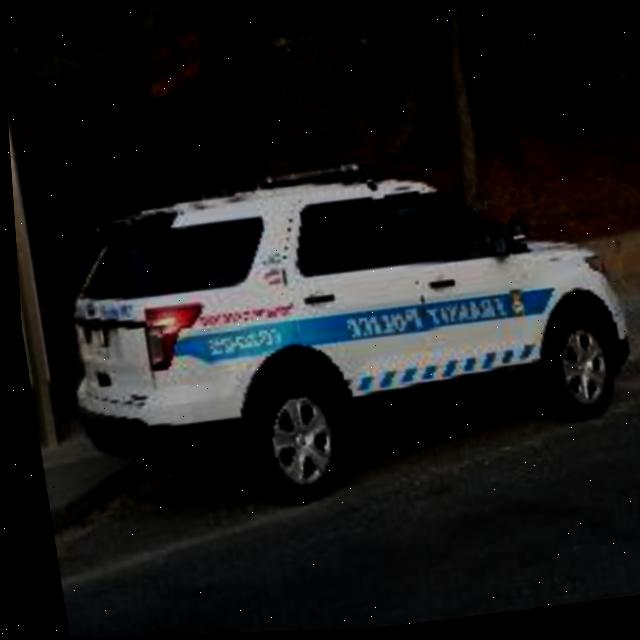emergency: (34, 127, 640, 534)
